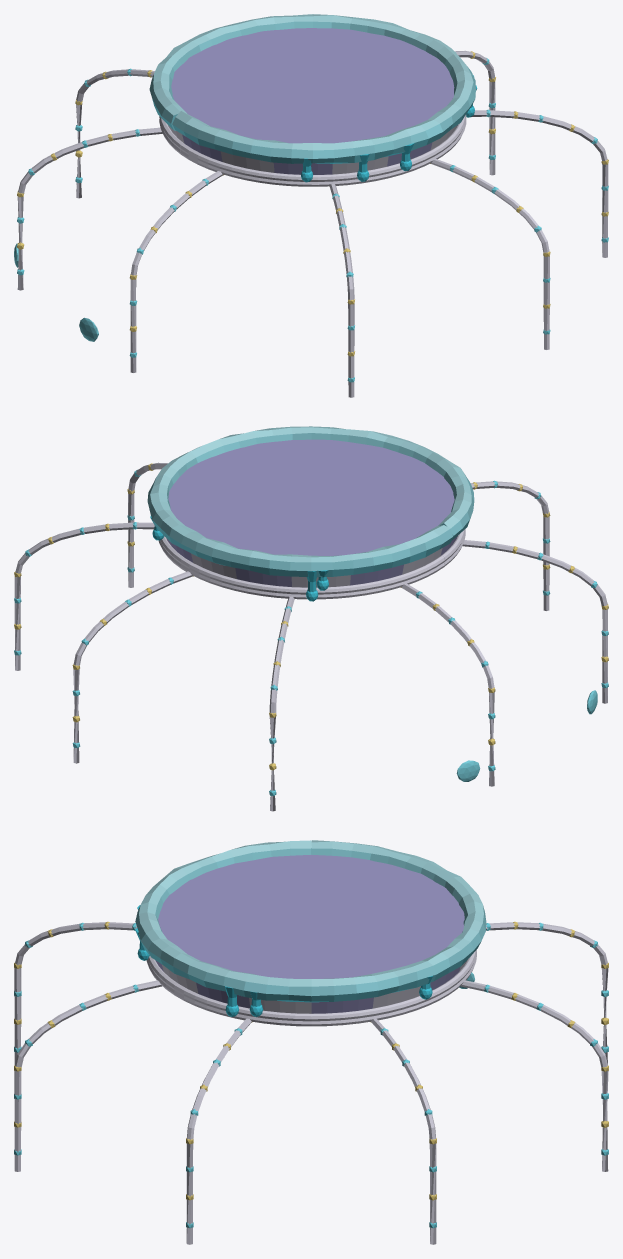
File: goo_jar_trim_1_top@space.fbx
The picture shows the model from 3 angles, top to bottom: view 1: azimuth 30°, elevation 25°; view 2: azimuth 150°, elevation 25°; view 3: azimuth 270°, elevation 25°; orthographic projection. The views are drawn at different scales.
Visible parts, largest first — view 1: goo_jar_trim_1_top; view 2: goo_jar_trim_1_top; view 3: goo_jar_trim_1_top.
Part boxes in pixels (box(x1,y1,x2,y2)): goo_jar_trim_1_top: box(14, 14, 608, 397); goo_jar_trim_1_top: box(14, 426, 608, 811); goo_jar_trim_1_top: box(14, 840, 608, 1244).
Size of the model in its own units: 60.37 by 22.69 by 58.38.
